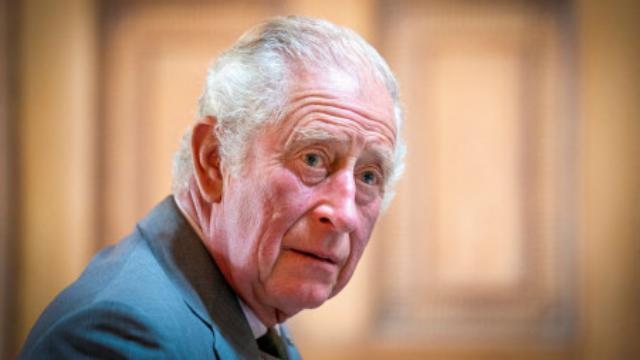forehead: (350, 106, 380, 136), (322, 96, 346, 128), (298, 90, 318, 122)
gummy_smile: (284, 199, 312, 235), (341, 229, 355, 270)
masseter: (248, 240, 264, 288)
sad_smile: (265, 244, 279, 272)
